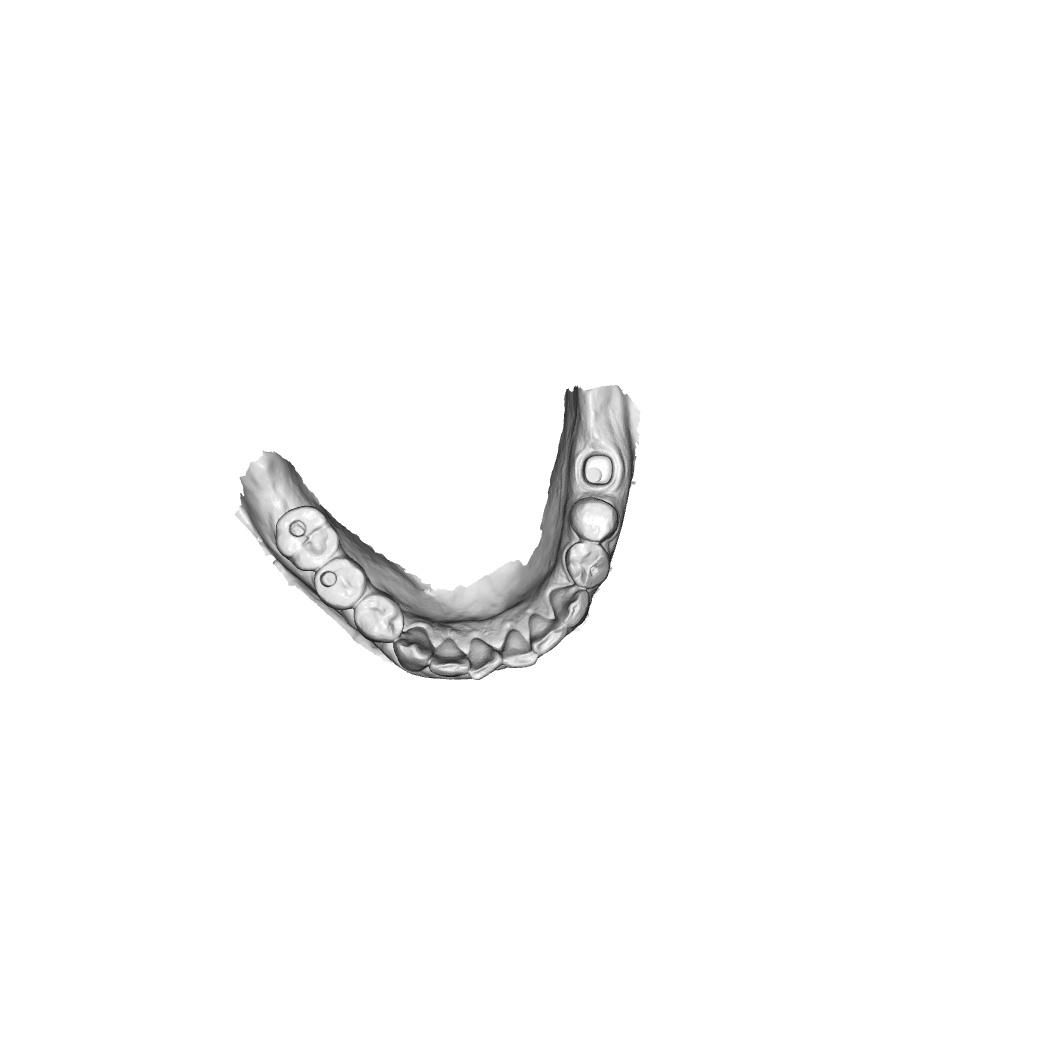abutment: (580, 452, 616, 488)
canine: (546, 584, 592, 629), (393, 625, 434, 672)
incisor: (429, 637, 472, 679), (528, 613, 569, 656), (499, 628, 539, 670), (467, 636, 504, 681)
molar: (274, 505, 342, 572)
premolar: (313, 555, 369, 611), (353, 591, 405, 644), (568, 497, 620, 543), (565, 541, 612, 589)
